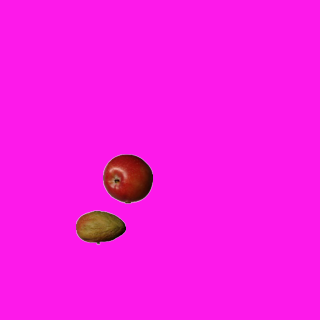Apple Braeburn: (102, 153, 152, 203)
Papaya: (75, 202, 125, 252)
